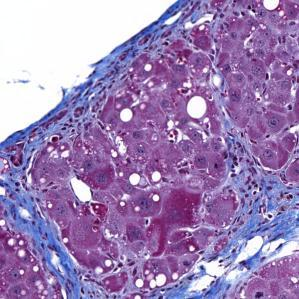fibrosis: (223, 140, 299, 263), (52, 262, 231, 294), (3, 137, 47, 244), (139, 21, 215, 60)
